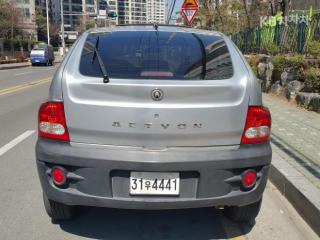1: (138, 177, 144, 190), (172, 179, 178, 191)
3: (131, 178, 138, 191)
4: (165, 177, 173, 193), (159, 177, 166, 192), (152, 177, 159, 191)
plate: (122, 167, 187, 199)
우: (145, 180, 151, 190)
